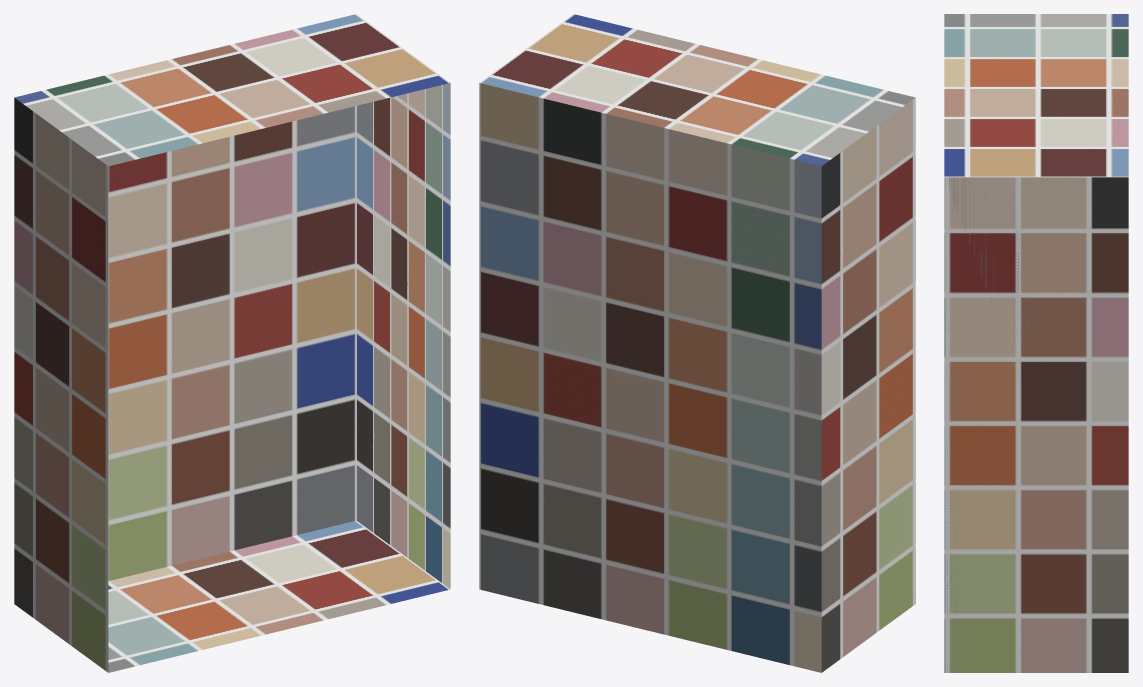
File: door.gltf
3 renders of one model, left to right at view 1: azimuth 30°, elevation 25°; view 2: azimuth 150°, elevation 25°; view 3: azimuth 270°, elevation 25°, orthographic. The views are drawn at different scales.
Visible parts, largest first — view 1: Cube; view 2: Cube; view 3: Cube.
Part boxes in pixels (<box>): Cube: <box>14,14,450,672</box>; Cube: <box>479,14,915,672</box>; Cube: <box>944,14,1128,672</box>.
Size of the model in its own units: 2.1 by 2.97 by 1.
Materials: 1 (1 with a texture image).
